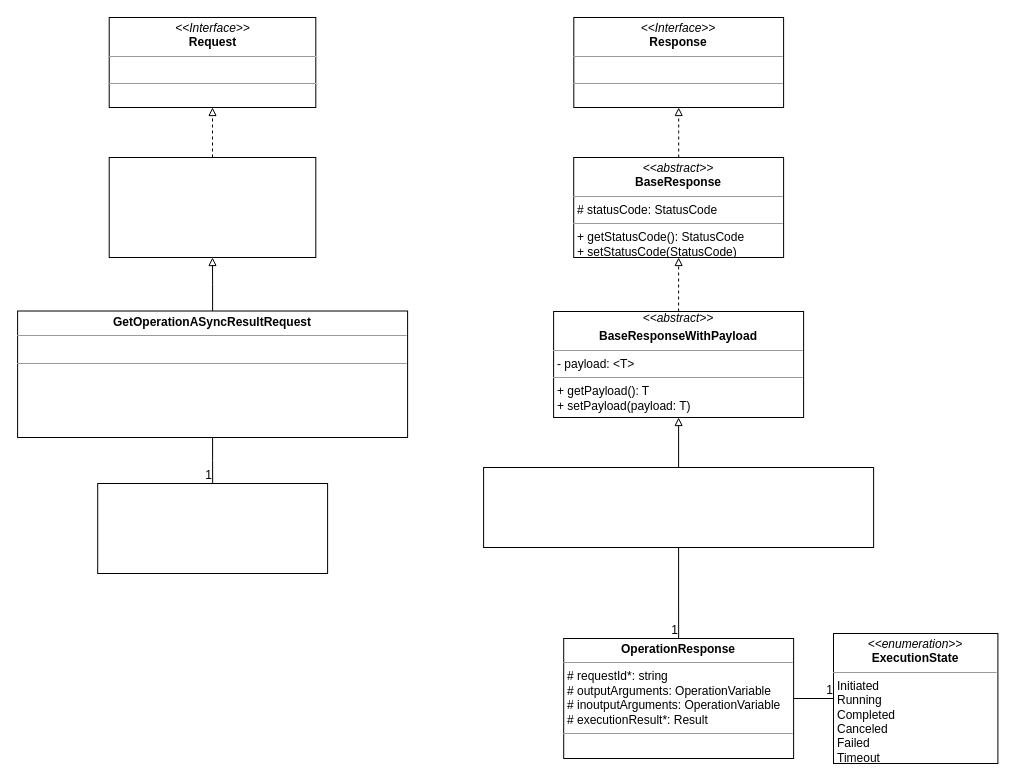
This 1016x781 diagram has some shape labels left out. The shapes that lost their labels are listed below. From the top down, each one's centre as x and y in pixels, then its label:
At (x=212, y=207): "<<abstract>> BaseRequest".
At (x=678, y=507): "GetOperationASyncResultResponse".
At (x=212, y=528): "OperationHandle # requestId*: string # handleId: string".
